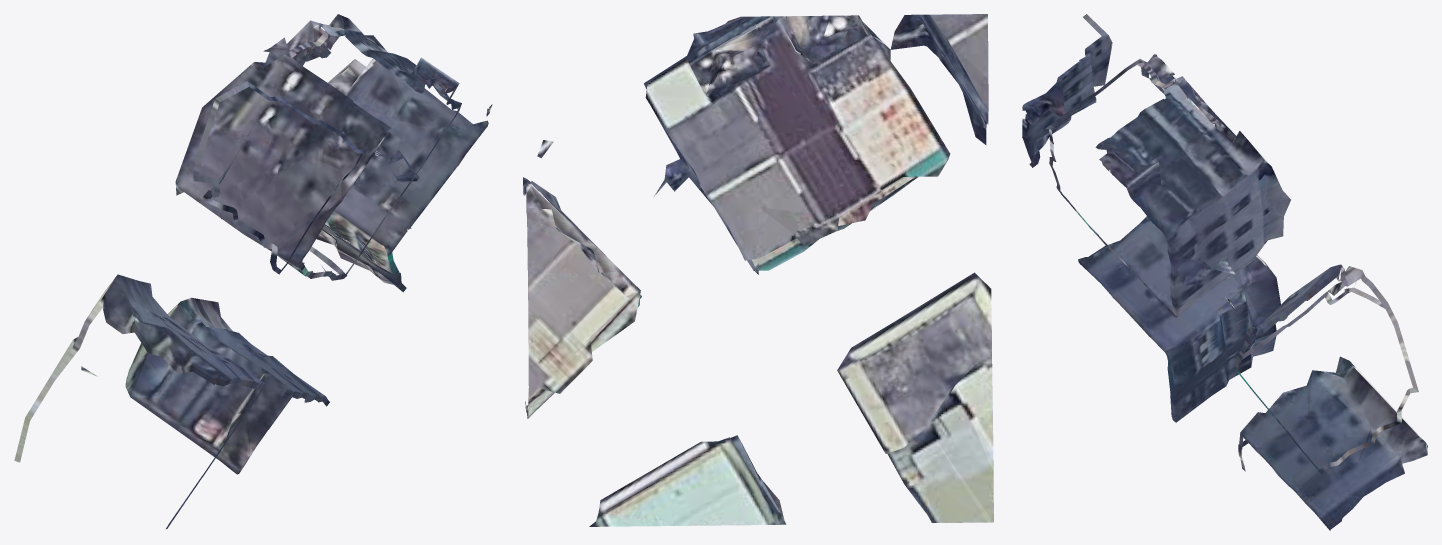
3 renders of one model, left to right at view 1: azimuth 30°, elevation 25°; view 2: azimuth 150°, elevation 25°; view 3: azimuth 270°, elevation 25°, orthographic. The views are drawn at different scales.
Size of the model in its own units: 41.03 by 39.46 by 35.2.
Materials: 2 (2 with a texture image).
